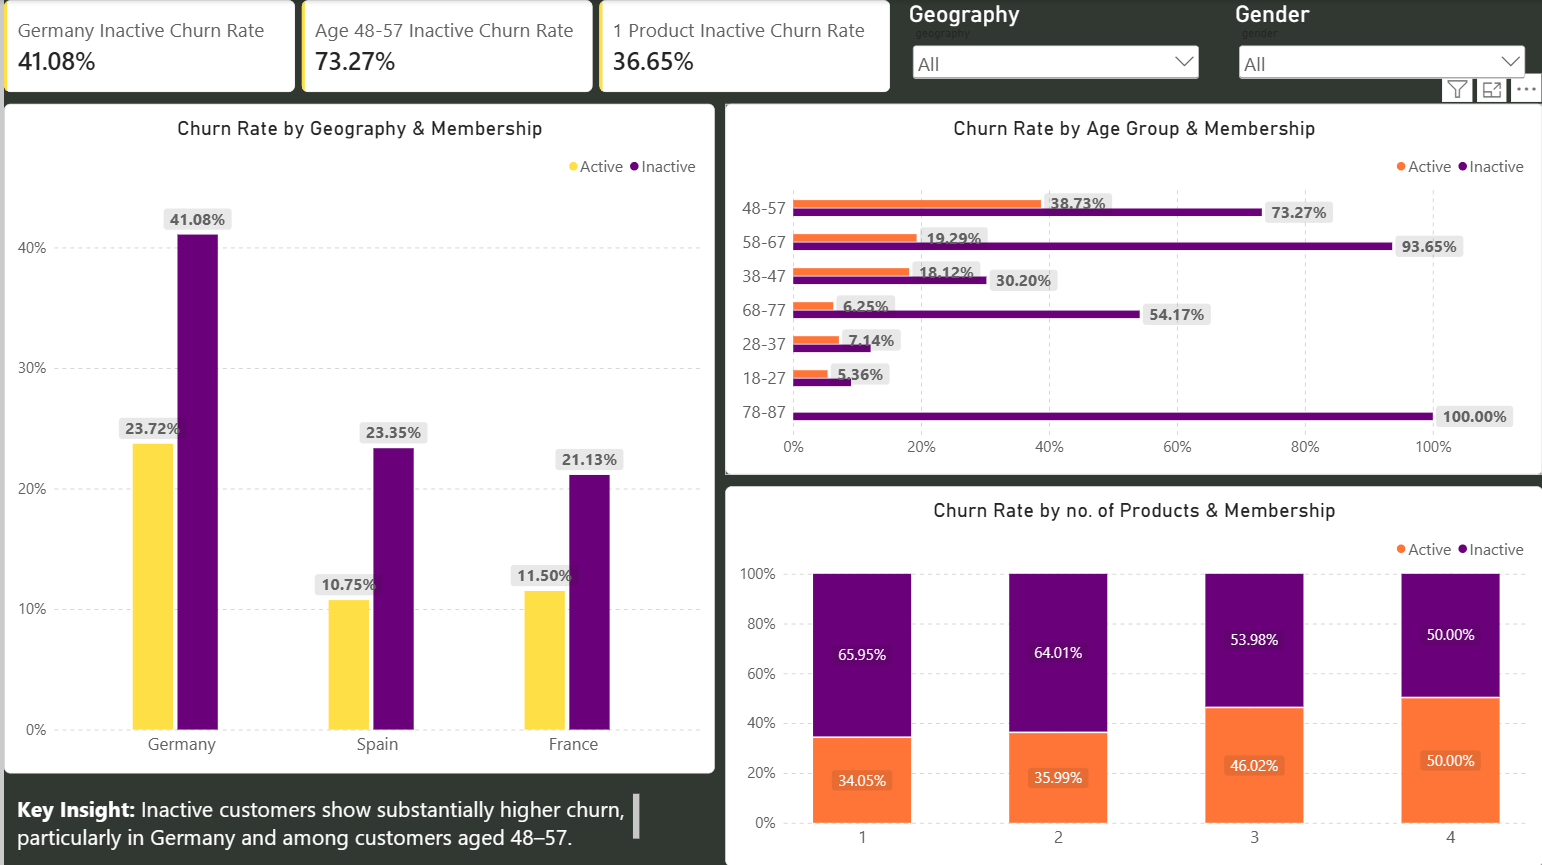

Layout of this report page (visuals, bound fields, positions):
{"tool":"powerbi","page":{"name":"High-Risk Customer Segments","canvas":[1920,1080],"ordinal":1},"visuals":[{"type":"cardVisual","fields":{"Data":["Churn_Modelling_clean.Germany Inactive Churn Rate","Churn_Modelling_clean.Age Inactive Churn Rate","Churn_Modelling_clean.1 Product Inactive Churn Rate"]},"box":[0,0,1107.8,115.7],"z":0},{"type":"clusteredColumnChart","title":"Churn Rate by Geography & Membership","fields":{"Category":["Churn_Modelling_clean.geography"],"Series":["Churn_Modelling_clean.Membership Status"],"Y":["Churn_Modelling_clean.Churn Rate"]},"box":[0,129.4,886.3,835.3],"z":1},{"type":"clusteredBarChart","title":"Churn Rate by Age Group & Membership","fields":{"Category":["Churn_Modelling_clean.Age group"],"Series":["Churn_Modelling_clean.Membership Status"],"Y":["Churn_Modelling_clean.Churn Rate"]},"box":[900,129.4,1019.6,462.7],"z":2},{"type":"hundredPercentStackedColumnChart","title":"Churn Rate by no. of Products & Membership","fields":{"Category":["Churn_Modelling_clean.num_of_products"],"Series":["Churn_Modelling_clean.Membership Status"],"Y":["Churn_Modelling_clean.Churn Rate"]},"box":[900,605.9,1019.6,474.5],"z":3},{"type":"slicer","title":"Geography","fields":{"Values":["Churn_Modelling_clean.geography"]},"box":[1128.8,0,366.5,123.6],"z":4},{"type":"slicer","title":"Gender","fields":{"Values":["Churn_Modelling_clean.gender"]},"box":[1535.1,0,366.5,123.6],"z":5},{"type":"textbox","box":[15.7,990.2,776.5,76.5],"z":6}]}

Visuals, with their boxes in screenshot pixels (x1, y1, x2, y2), scaled from the page's 1920x1080 canvas onto the 1542x865 screenshot:
cardVisual - Churn_Modelling_clean.Germany Inactive Churn Rate x Churn_Modelling_clean.Age Inactive Churn Rate: region(0, 0, 890, 93)
"Churn Rate by Geography & Membership" clusteredColumnChart: region(0, 104, 712, 773)
"Churn Rate by Age Group & Membership" clusteredBarChart: region(723, 104, 1541, 474)
"Churn Rate by no. of Products & Membership" hundredPercentStackedColumnChart: region(723, 485, 1541, 864)
"Geography" slicer: region(907, 0, 1201, 99)
"Gender" slicer: region(1233, 0, 1527, 99)
textbox: region(13, 793, 636, 854)
